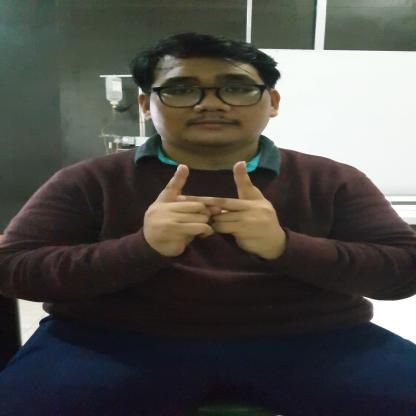H: (140, 160, 284, 254)
